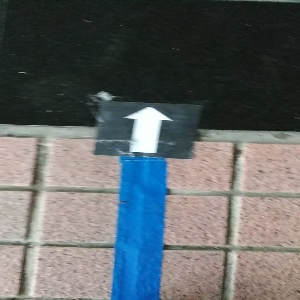straight: (93, 100, 200, 157)
